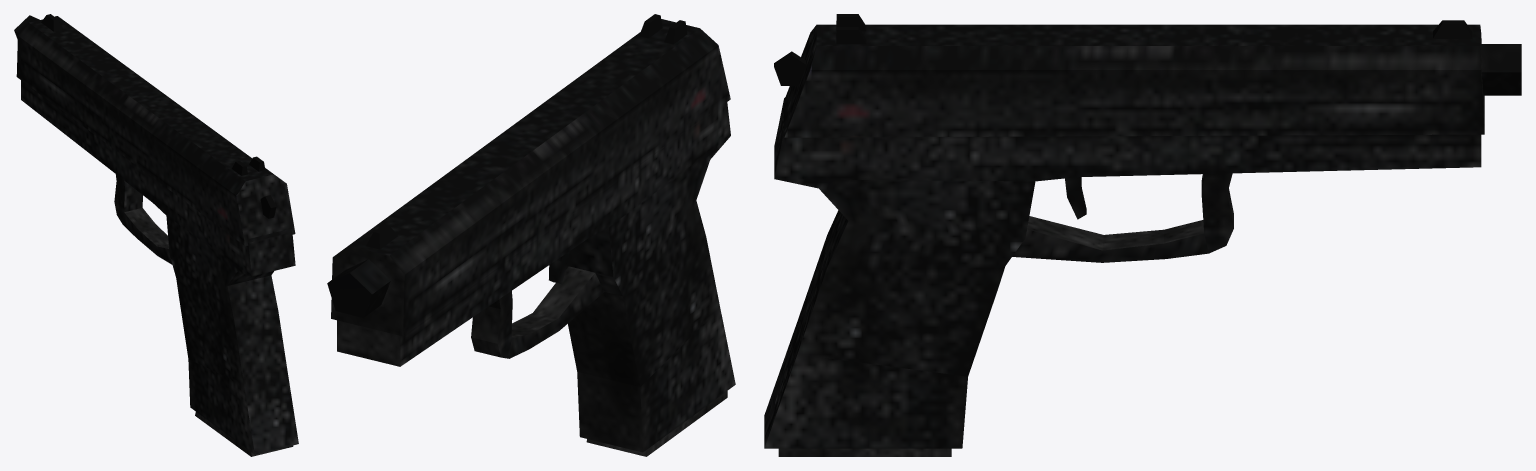
File: retro-style-pistol-lowpoly__pistol_fbPistol_fbPistol.glb
3 views of the same model, side by side, from view 1: azimuth 30°, elevation 25°; view 2: azimuth 150°, elevation 25°; view 3: azimuth 270°, elevation 25° (orthographic). The views are drawn at different scales.
Parts seen in each view (by area): view 1: pistole_mainframe, Pistol_toppart, Pistol_magazine; view 2: pistole_mainframe, Pistol_toppart, Pistol_magazine, Pistol_Trigger; view 3: pistole_mainframe, Pistol_toppart, Pistol_magazine, pistol_idkthenameofthispart.
Part boxes in pixels (<box>): pistole_mainframe: <box>14,15,298,454</box>; Pistol_toppart: <box>16,14,295,246</box>; Pistol_magazine: <box>195,412,293,456</box>; pistole_mainframe: <box>327,102,735,452</box>; Pistol_toppart: <box>331,14,730,336</box>; Pistol_magazine: <box>586,391,727,456</box>; Pistol_Trigger: <box>549,252,569,284</box>; pistole_mainframe: <box>764,44,1521,448</box>; Pistol_toppart: <box>784,14,1484,137</box>; Pistol_magazine: <box>778,448,951,456</box>; pistol_idkthenameofthispart: <box>774,51,805,85</box>.
Bounding box in the file's own units: 0.0592 × 0.3085 × 0.5051.
Materials: 1 (1 with a texture image).
